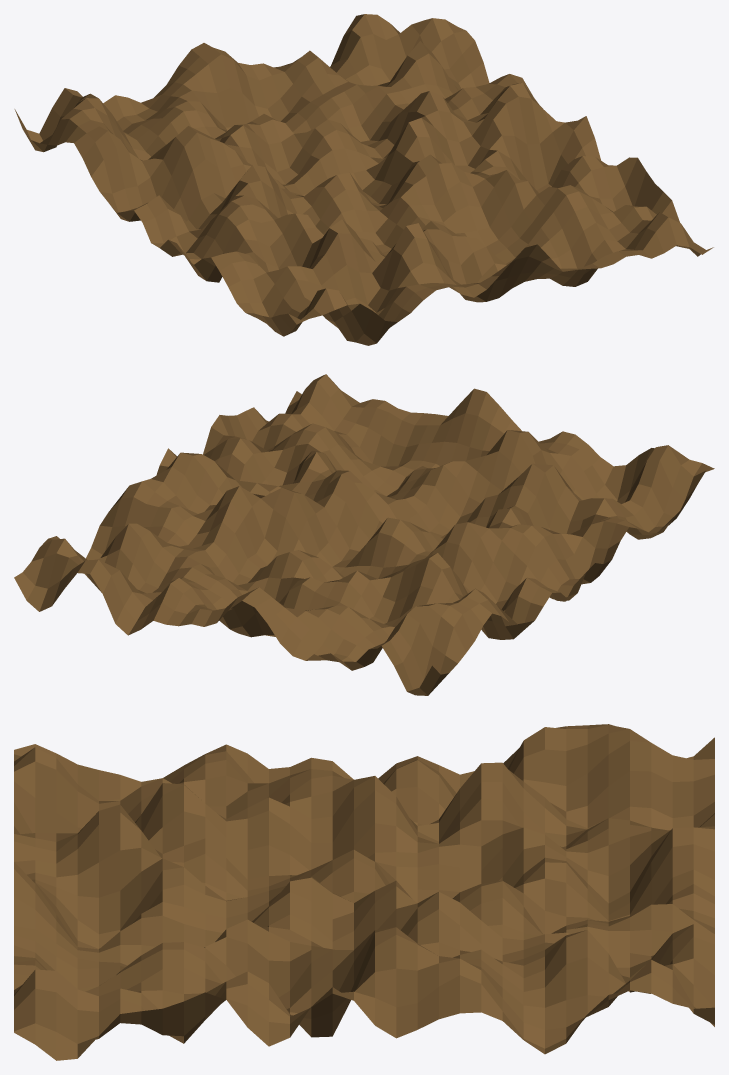
The model's file is mountains.fbx.
3 renders of one model, top to bottom at view 1: azimuth 30°, elevation 25°; view 2: azimuth 150°, elevation 25°; view 3: azimuth 270°, elevation 25°, orthographic. The views are drawn at different scales.
Visible parts, largest first — view 1: Plane; view 2: Plane; view 3: Plane.
Boxes of the visible parts, left/top/right/bottom form: Plane: left=14, top=14, right=713, bottom=345; Plane: left=14, top=374, right=714, bottom=695; Plane: left=14, top=724, right=714, bottom=1060.
Bounding box in the file's own units: 4474 × 939 × 5239.
